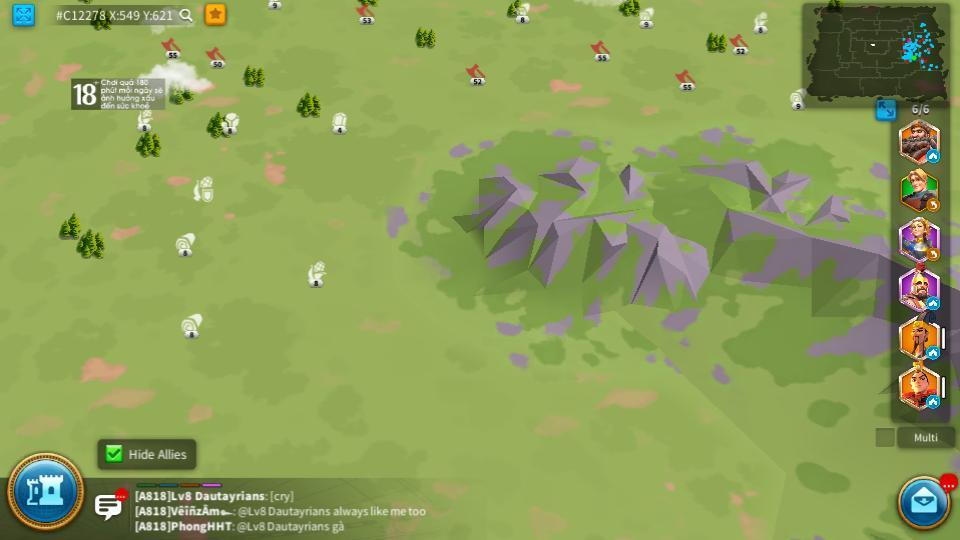gem-z-out: (331, 112, 349, 132)
march_idle: (926, 397, 940, 409), (926, 298, 940, 309), (927, 348, 940, 359), (927, 150, 939, 161)
march_returning: (926, 250, 941, 261), (927, 201, 940, 211)
